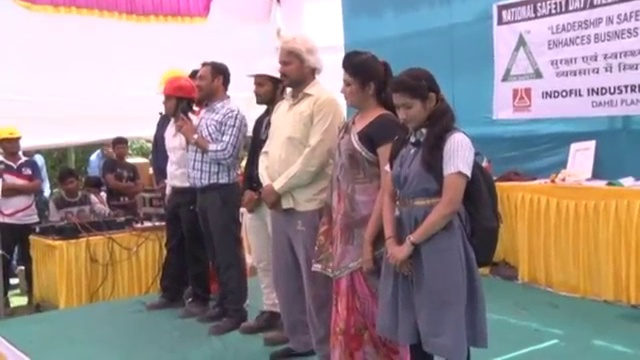helmet: (153, 75, 202, 103), (243, 58, 281, 81), (0, 123, 24, 144)
helmet_off: (383, 64, 449, 147), (337, 48, 389, 117), (272, 35, 322, 89), (190, 61, 230, 107), (59, 170, 81, 198), (100, 139, 118, 162), (84, 176, 101, 200), (113, 141, 129, 163)
helmet_on: (153, 75, 200, 125), (243, 58, 280, 110), (0, 124, 26, 168)
person: (382, 64, 498, 360), (255, 33, 350, 360), (326, 49, 408, 360), (175, 62, 249, 334), (241, 54, 294, 344), (144, 73, 201, 320), (0, 127, 51, 286), (48, 164, 105, 232), (99, 142, 141, 215), (86, 136, 117, 178)
